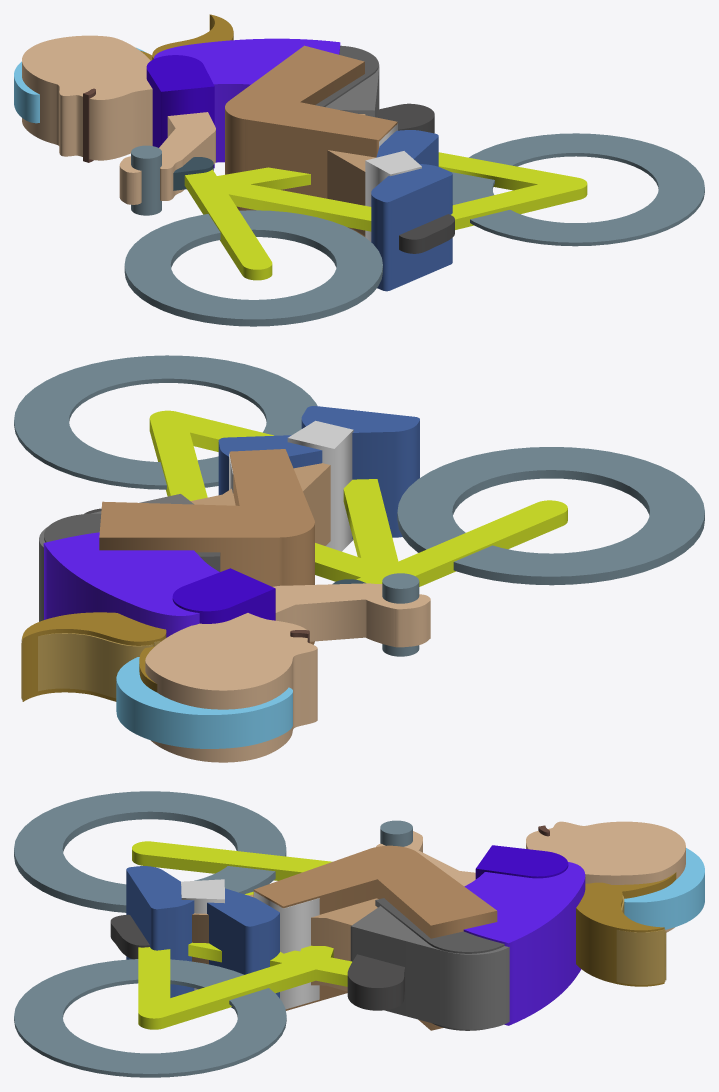
File: emoji_u1f6b4_1f3fc_200d_2640.glb
3 views of the same model, one above another, from view 1: azimuth 30°, elevation 25°; view 2: azimuth 150°, elevation 25°; view 3: azimuth 270°, elevation 25° (orthographic). The views are drawn at different scales.
Parts seen in each view (by area): view 1: emoji_u1f6b4_1f3fc_200d_2640; view 2: emoji_u1f6b4_1f3fc_200d_2640; view 3: emoji_u1f6b4_1f3fc_200d_2640.
Part boxes in pixels (bbox=[...]): emoji_u1f6b4_1f3fc_200d_2640: bbox=[14, 14, 704, 326]; emoji_u1f6b4_1f3fc_200d_2640: bbox=[14, 355, 704, 762]; emoji_u1f6b4_1f3fc_200d_2640: bbox=[14, 791, 704, 1077].
Bounding box in the file's own units: 0.0321 × 0.0056 × 0.0334.
